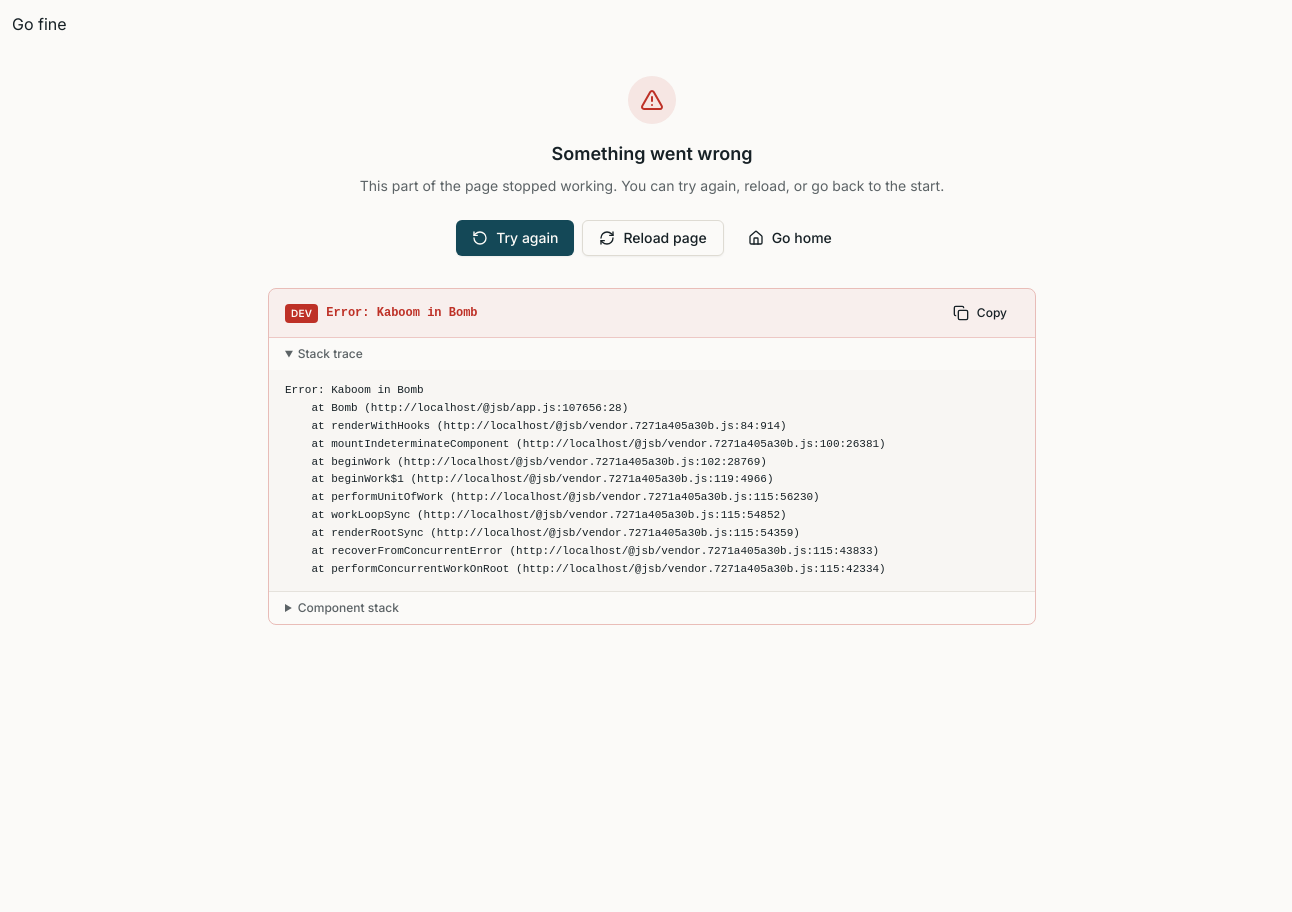
it: RouteErrorBoundary in a shell › recovers when the user follows a link
Click the link "Go fine" at [39, 24], box [12,14,67,34]
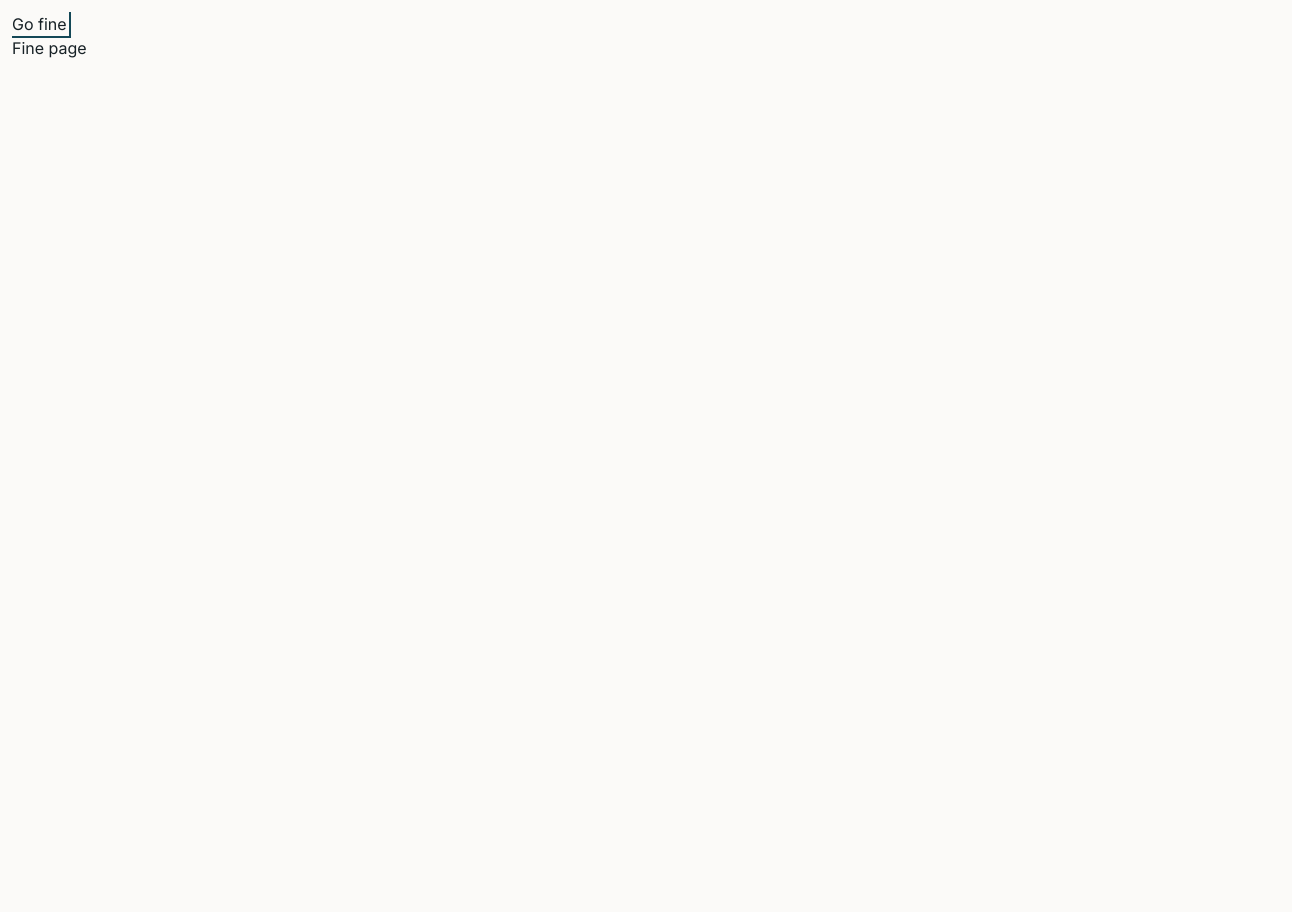
Expected: the text "Fine page" is shown, [12,38,87,58]
Expected: the message is gone
